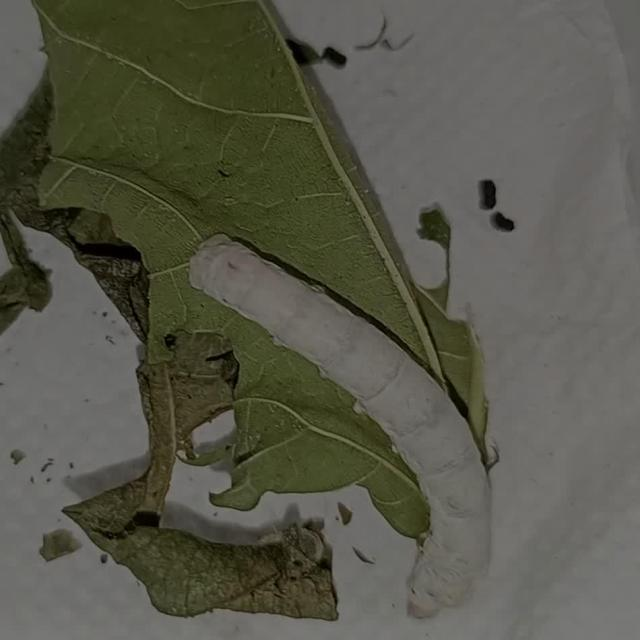Healthy: (179, 224, 501, 610)
